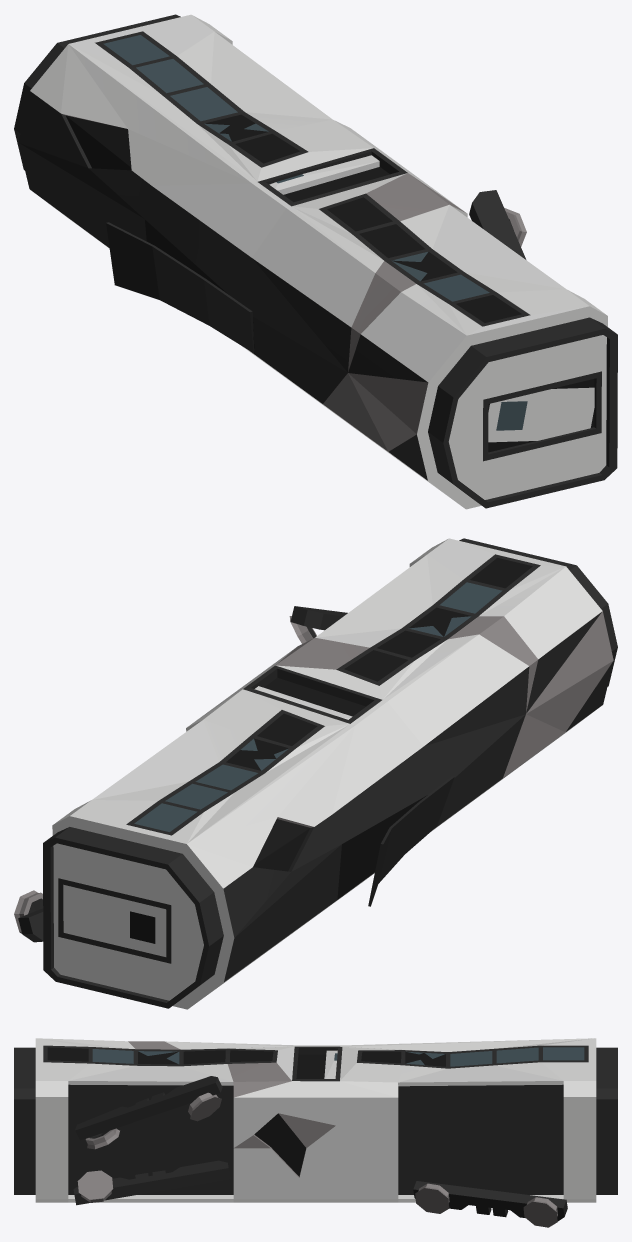
File: apocalypse_train-speed-wagon-apocalypse-a.fbx
3 renders of one model, top to bottom at view 1: azimuth 30°, elevation 25°; view 2: azimuth 150°, elevation 25°; view 3: azimuth 270°, elevation 25°, orthographic. The views are drawn at different scales.
Parts seen in each view (by area): view 1: apocalypse_train_speed_wagon_apocalypse_a; view 2: apocalypse_train_speed_wagon_apocalypse_a; view 3: apocalypse_train_speed_wagon_apocalypse_a.
Boxes of the visible parts, x1,y1,x2,y2 form: apocalypse_train_speed_wagon_apocalypse_a: (14,14,617,509); apocalypse_train_speed_wagon_apocalypse_a: (14,538,617,1009); apocalypse_train_speed_wagon_apocalypse_a: (14,1038,617,1227).
Size of the model in its own units: 79.34 by 48.55 by 200.
